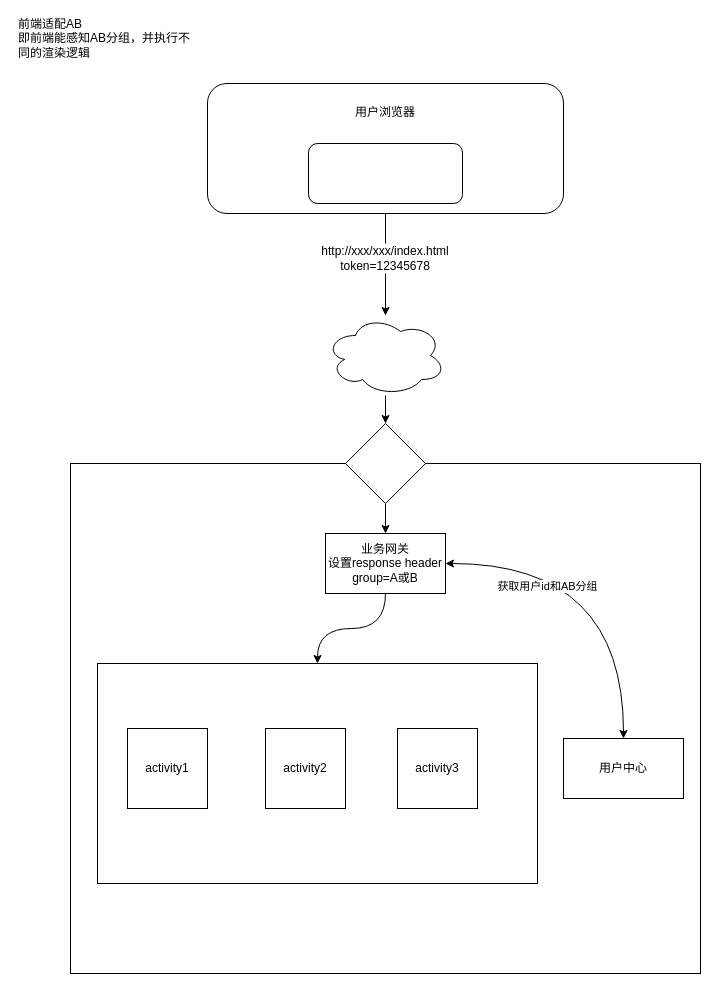
Some shapes in this 718 by 991 pixel diagram are drawn without their labels. Each missing label, with the centre of its shape:
公网: the point at 385,355
最后一步 对返回的页面和AB分组数据 做AB的不同渲染展示: the point at 385,173
集群入口: the point at 385,463
